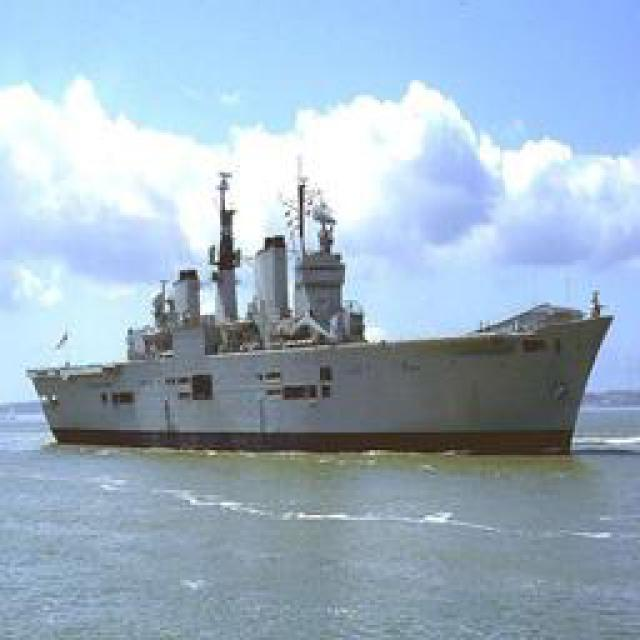Ship: (27, 290, 615, 455)
